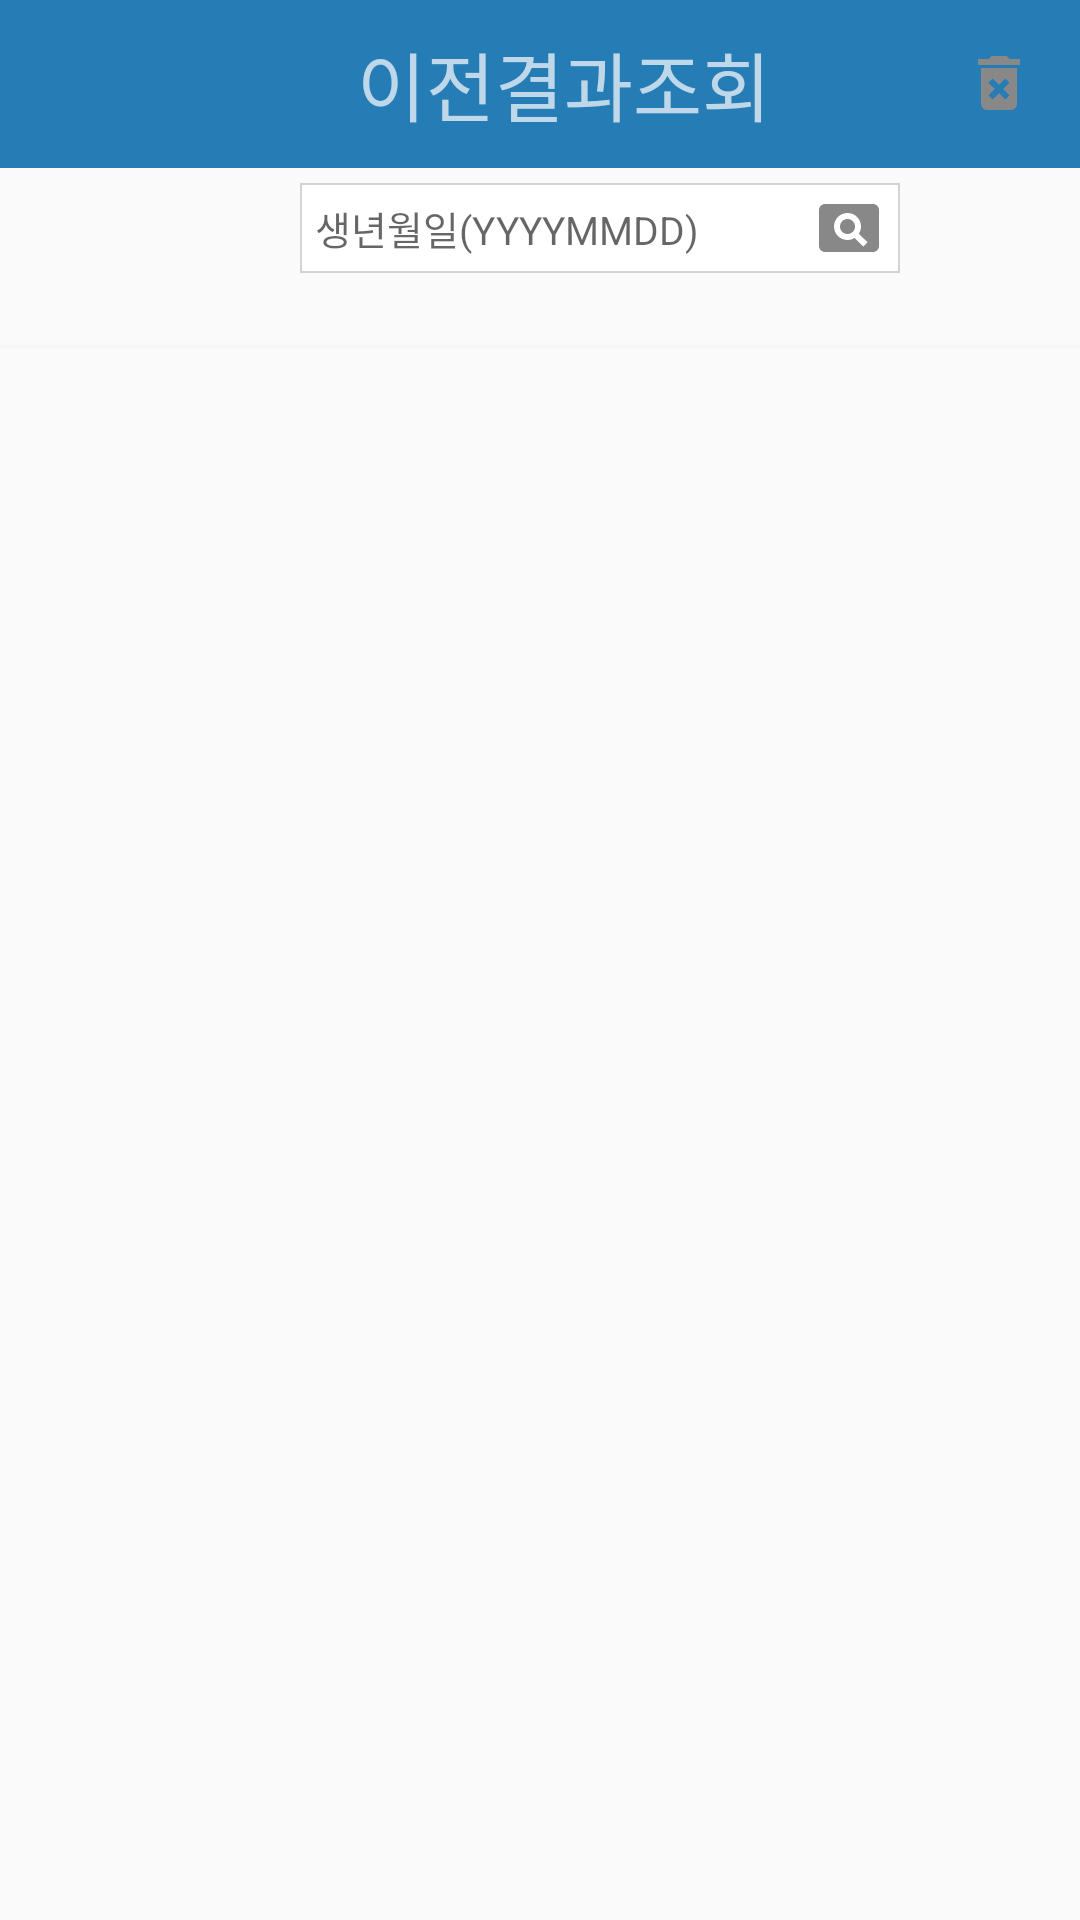

Named icons in this screenshot (1080w x 1920h) and their bounding boxes, bbox(x1, y1, x2, y2):
delete forever: bbox(978, 56, 1020, 110)
